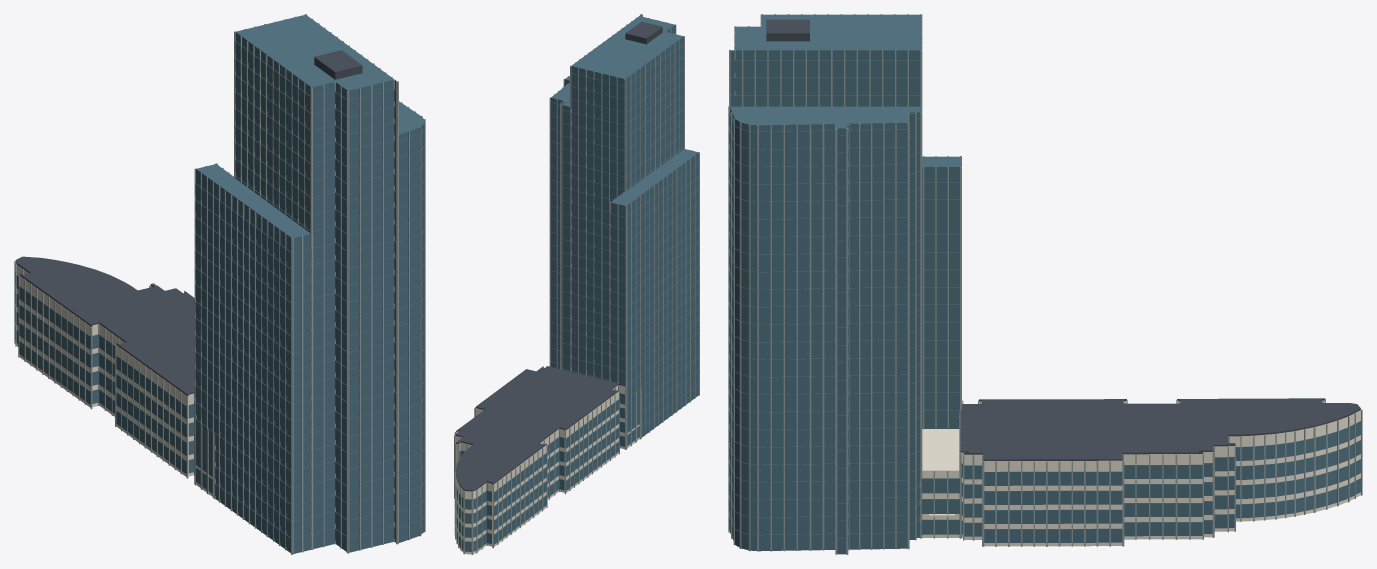
The model's file is breitner-tower.glb.
3 views of the same model, side by side, from view 1: azimuth 30°, elevation 25°; view 2: azimuth 150°, elevation 25°; view 3: azimuth 270°, elevation 25° (orthographic). The views are drawn at different scales.
Visible parts, largest first — view 1: breitner-tower; view 2: breitner-tower; view 3: breitner-tower.
Boxes of the visible parts, <box> form: breitner-tower: <box>14,14,425,554</box>; breitner-tower: <box>454,14,699,554</box>; breitner-tower: <box>728,14,1362,554</box>.
Bounding box in the file's own units: 29.27 × 95 × 111.
